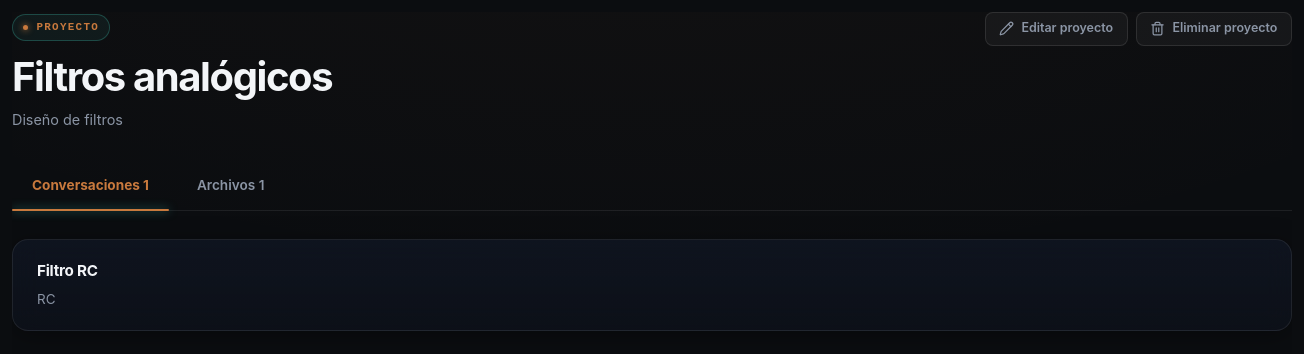
Test case: renders semantic tabs and links files to their source conversations
The image size is (1304, 354).
Click the tab "Archivos 1" at {"x": 231, "y": 186}, box top-left (177, 163), bottom-right (284, 208)
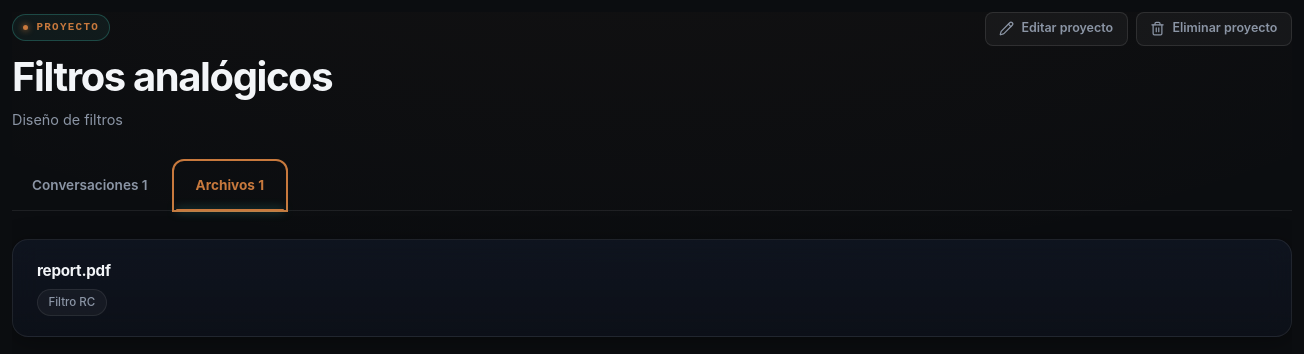
Check: the panel named "Archivos 1" shows "report.pdf", box top-left (37, 260), bottom-right (1267, 282)
